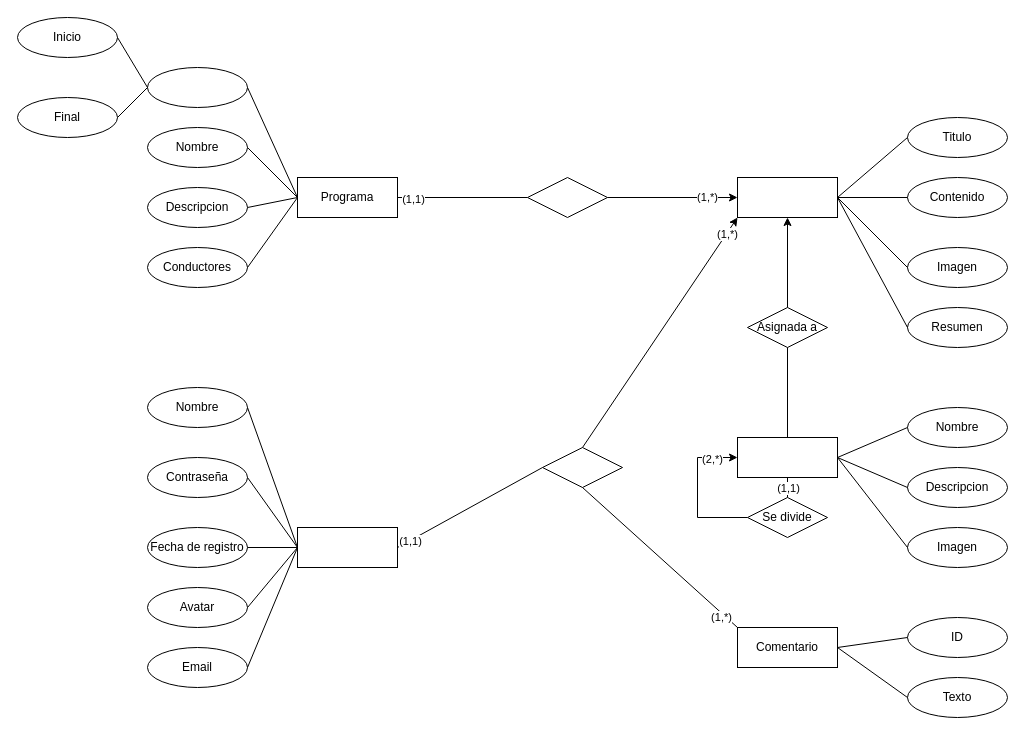
This 1025x735 diagram has some shape labels left out. The centre of each missing label's shape, as x and y in pixels:
"Categoria" goes at (x=787, y=457).
"Comenta" goes at (x=582, y=467).
"Escribe" goes at (x=567, y=197).
"Horario" goes at (x=197, y=87).
"Notas" goes at (x=787, y=197).
"Usuario" goes at (x=347, y=547).
